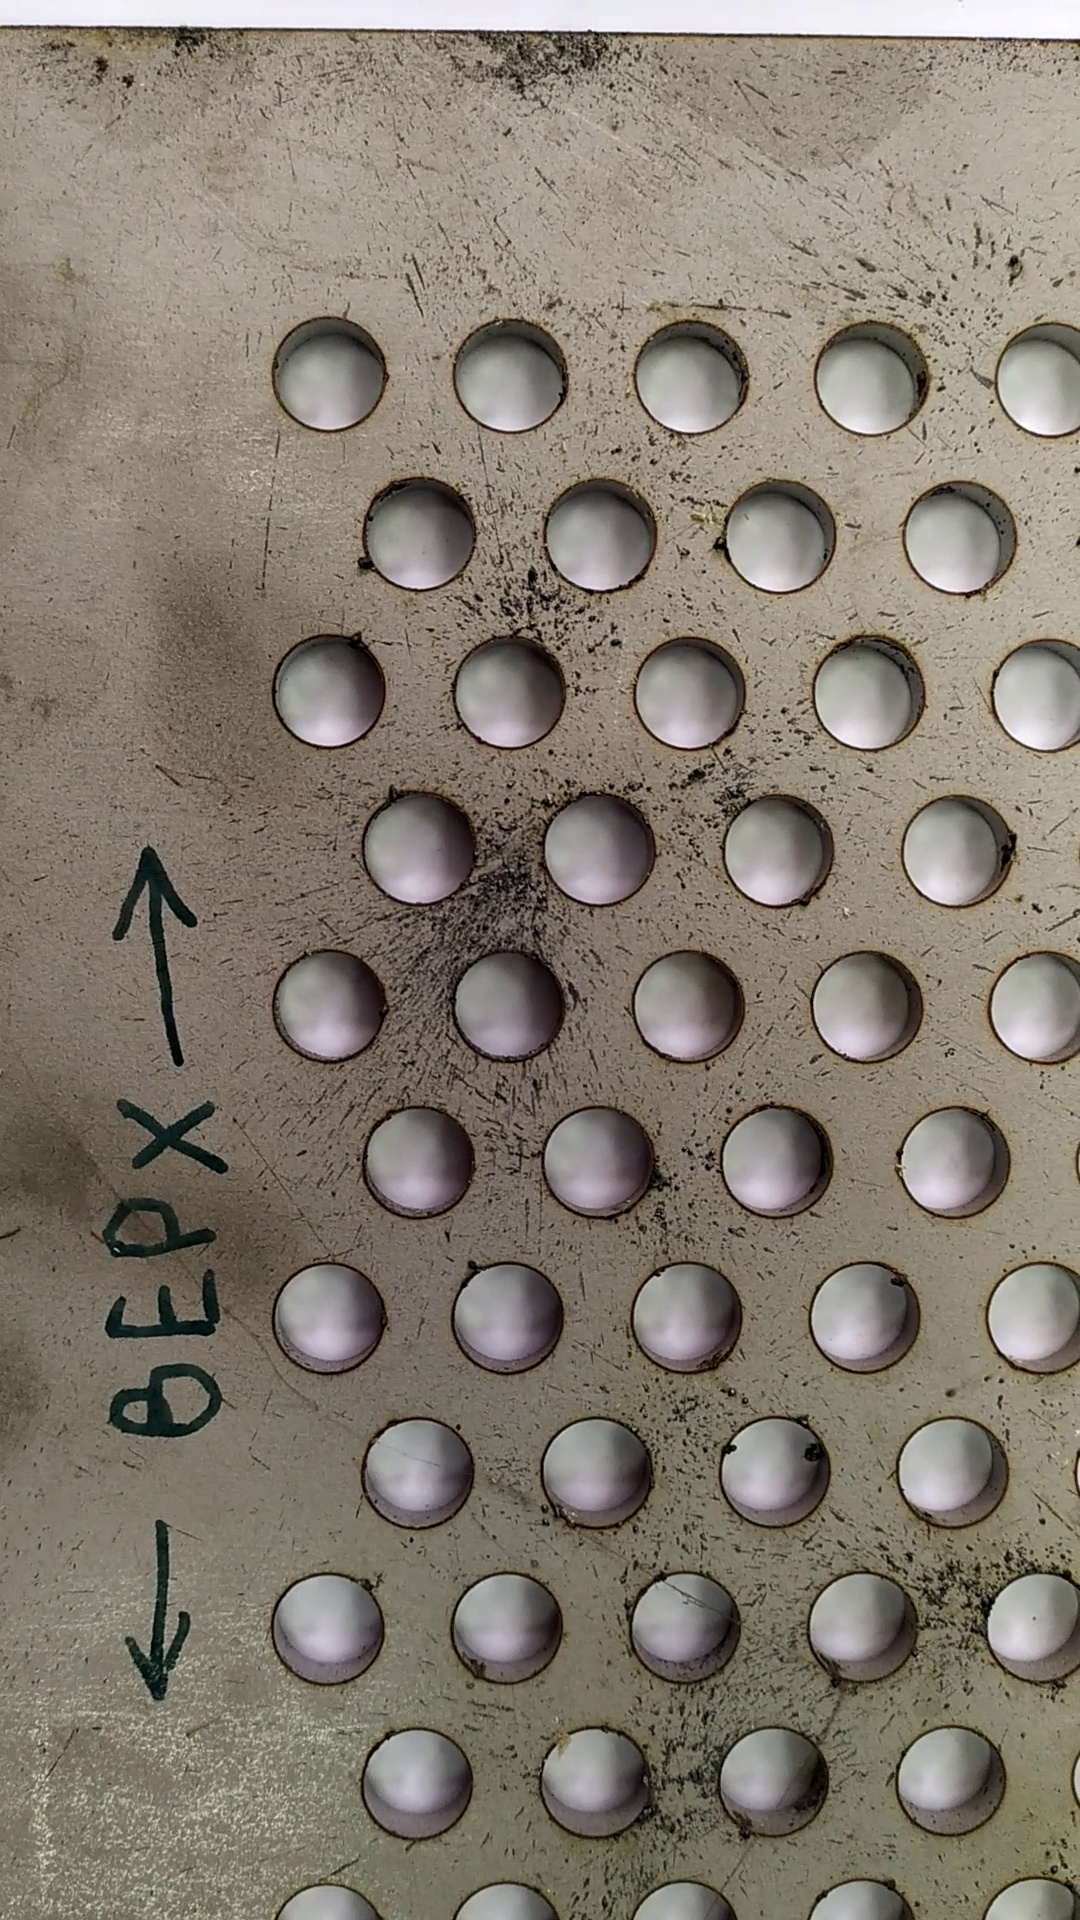Hole: (342, 1717, 491, 1850), (704, 1095, 847, 1230), (618, 309, 764, 442), (535, 462, 669, 605), (258, 305, 398, 440), (349, 471, 491, 605), (712, 468, 853, 603), (526, 1717, 669, 1850), (802, 305, 940, 440), (258, 624, 398, 758), (885, 1095, 1026, 1228), (709, 781, 851, 913), (527, 1407, 665, 1542), (347, 1097, 491, 1224), (444, 303, 575, 442), (349, 785, 491, 913), (618, 1563, 760, 1689), (708, 1408, 841, 1542), (894, 471, 1029, 603), (438, 1563, 574, 1693), (531, 787, 669, 916), (357, 1408, 495, 1538), (884, 1716, 1022, 1844), (624, 630, 757, 762), (443, 1250, 575, 1383), (891, 785, 1022, 919), (889, 1408, 1018, 1544), (624, 1254, 756, 1383), (808, 626, 934, 762), (440, 945, 579, 1068), (800, 1563, 928, 1693), (447, 628, 579, 754), (708, 1720, 840, 1846), (804, 1250, 926, 1387), (272, 1251, 396, 1383), (538, 1098, 663, 1228), (628, 945, 756, 1071), (262, 1568, 394, 1689), (806, 944, 936, 1065), (266, 948, 392, 1065)
